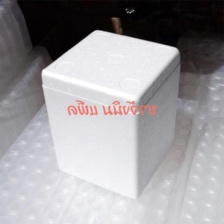foam_box: (37, 26, 186, 202)
